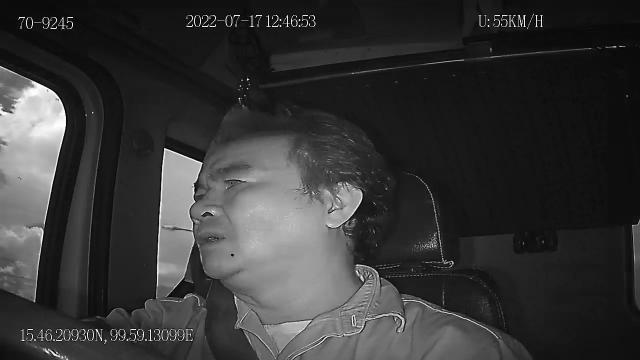Seatbelt: (204, 276, 262, 360)
